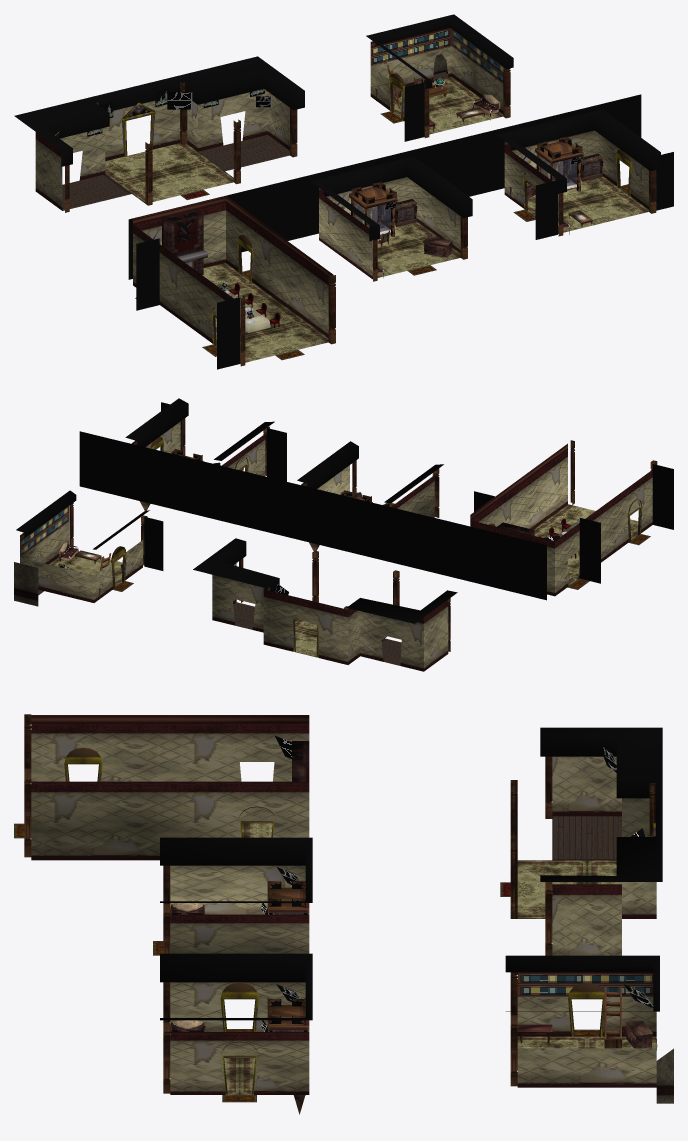
3 views of the same model, one above another, from view 1: azimuth 30°, elevation 25°; view 2: azimuth 150°, elevation 25°; view 3: azimuth 270°, elevation 25° (orthographic). The views are drawn at different scales.
Parts seen in each view (by area): view 1: ghost_lobby; view 2: ghost_lobby; view 3: ghost_lobby.
Part boxes in pixels (<box>): ghost_lobby: <box>14,14,673,369</box>; ghost_lobby: <box>14,398,673,671</box>; ghost_lobby: <box>14,714,673,1114</box>.
Size of what is drawn, in the model's own units: 5.79 by 0.9214 by 4.75.
61 materials, 60 textured.
